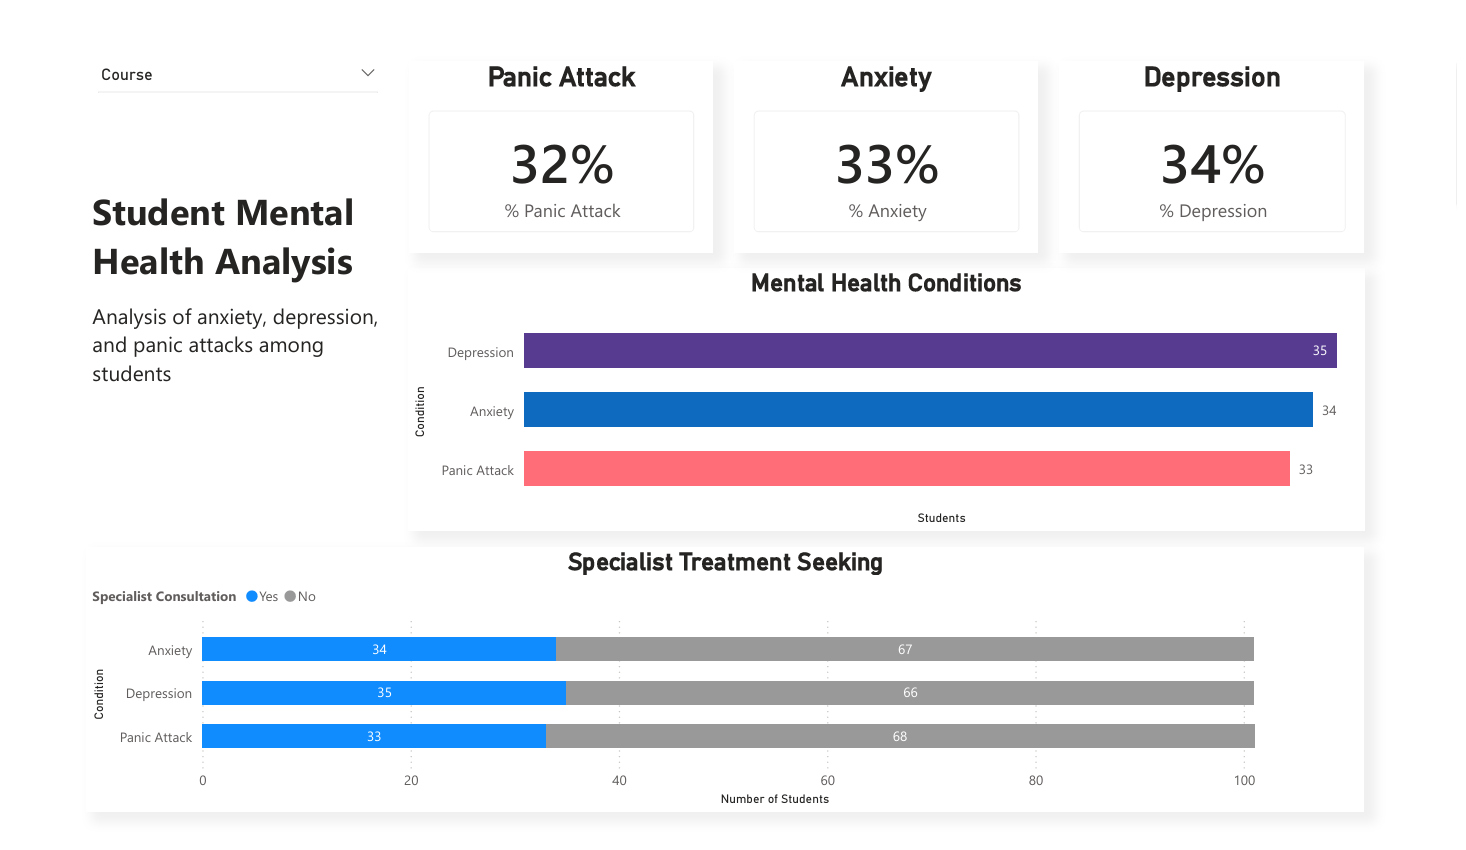

The page's visual inventory and layout, read from the dashboard file:
{"tool":"powerbi","page":{"name":"Página 1","canvas":[1280,720],"ordinal":0},"visuals":[{"type":"barChart","title":"Mental Health Conditions","fields":{"Category":["Student Mental health.Condition"],"Y":["CountNonNull(Student Mental health.Response)"]},"box":[347.7,217.4,850,232.6],"z":0},{"type":"barChart","title":"Specialist Treatment Seeking","fields":{"Series":["Student Mental health.Response"],"Category":["Student Mental health.Condition"],"Y":["CountNonNull(Student Mental health.Did you seek any specialist for a treatment?)"]},"box":[61.6,465.1,1136,234.9],"z":1000},{"type":"cardVisual","title":"Anxiety","fields":{"Data":["Student Mental health.% Anxiety"]},"box":[638.2,32.8,269.9,170.2],"z":2000},{"type":"cardVisual","title":"Depression","fields":{"Data":["Student Mental health.% Depression"]},"box":[927,32.8,271.1,170.2],"z":3000},{"type":"cardVisual","title":"Panic Attack","fields":{"Data":["Student Mental health.% Panic Attack"]},"box":[349.4,32.8,269.9,170.2],"z":4000},{"type":"textbox","box":[61.9,138.5,269,234],"z":5000},{"type":"slicer","fields":{"Values":["Student Mental health.Course"]},"box":[61.9,32.3,269,28.2],"z":6000}]}

Visuals, with their boxes in screenshot pixels (x1, y1, x2, y2), scaled from the page's 1280x720 canvas onto the 1466x850 screenshot:
"Mental Health Conditions" barChart: bbox=[398, 257, 1372, 531]
"Specialist Treatment Seeking" barChart: bbox=[71, 549, 1372, 826]
"Anxiety" cardVisual: bbox=[731, 39, 1040, 240]
"Depression" cardVisual: bbox=[1062, 39, 1372, 240]
"Panic Attack" cardVisual: bbox=[400, 39, 709, 240]
textbox: bbox=[71, 164, 379, 440]
slicer - Student Mental health.Course: bbox=[71, 38, 379, 71]
